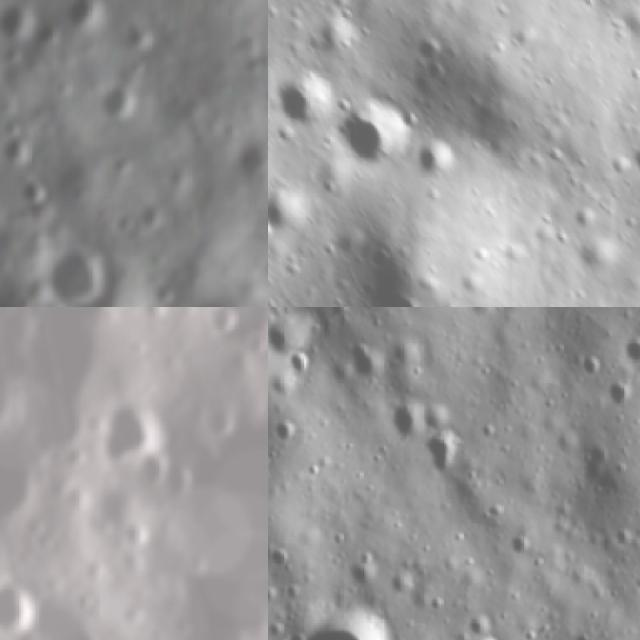crater: (138, 380, 268, 640), (82, 385, 174, 477), (0, 410, 59, 544), (336, 89, 407, 177), (269, 67, 338, 128), (47, 242, 101, 307), (294, 606, 397, 640), (0, 573, 48, 640), (0, 337, 25, 444), (0, 0, 49, 43), (410, 138, 460, 180), (422, 432, 462, 478), (341, 551, 382, 595), (387, 397, 427, 442), (268, 308, 300, 359), (88, 84, 132, 121), (58, 0, 114, 29), (268, 187, 299, 238), (347, 344, 384, 386), (202, 307, 244, 340), (386, 568, 422, 604), (602, 378, 636, 415), (268, 415, 300, 448), (621, 332, 640, 373), (578, 354, 603, 385), (288, 346, 310, 381), (626, 145, 640, 183)
